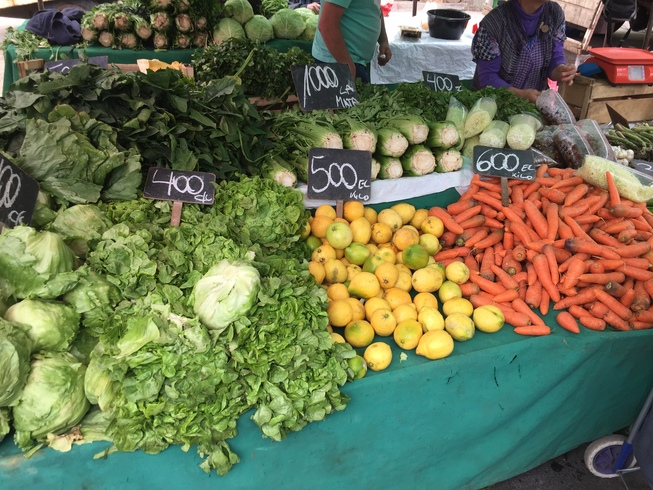precio: (304, 141, 381, 211), (289, 54, 368, 117), (1, 141, 49, 242), (141, 160, 230, 213), (467, 134, 541, 191), (418, 68, 475, 105)
